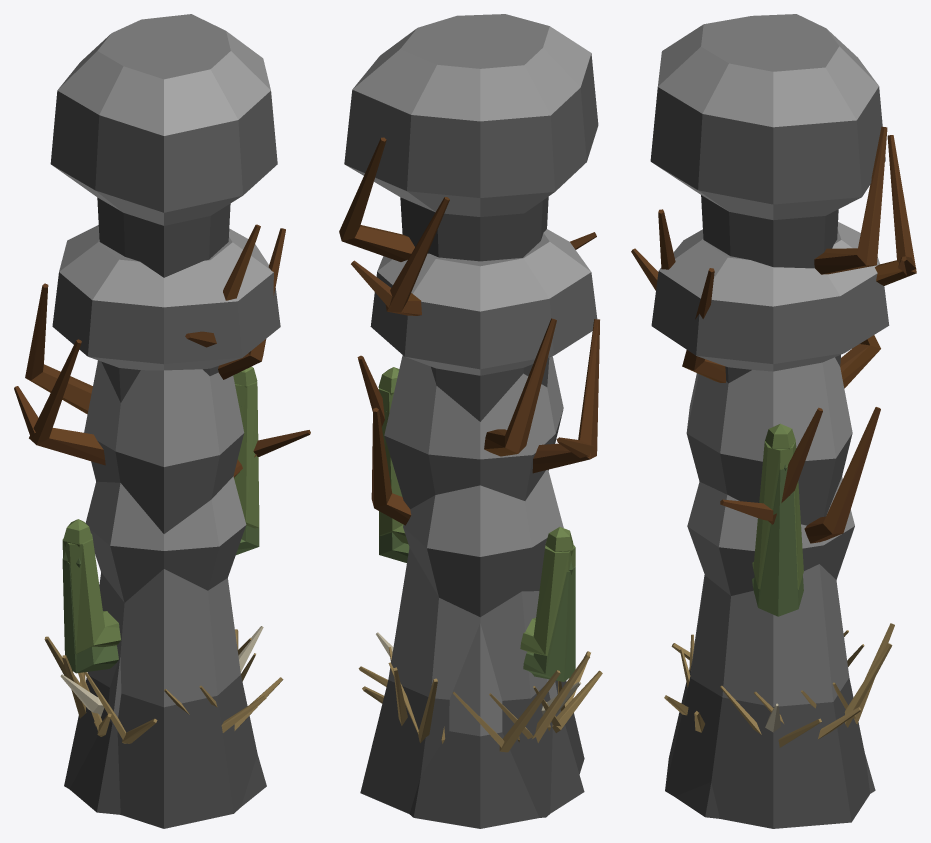
The model's file is badlands.glb.
3 views of the same model, side by side, from view 1: azimuth 30°, elevation 25°; view 2: azimuth 150°, elevation 25°; view 3: azimuth 270°, elevation 25° (orthographic).
Visible parts, largest first — view 1: badlands_sandstone_pillar_b, badlands_sandstone_pillar_a, badlands_cactus_b, badlands_dead_tree_b, badlands_dead_tree_a, badlands_cactus_a, badlands_dry_shrub_b, badlands_dry_shrub_a, badlands_bleached_skull_b; view 2: badlands_sandstone_pillar_b, badlands_sandstone_pillar_a, badlands_dead_tree_b, badlands_dead_tree_a, badlands_cactus_b, badlands_cactus_a, badlands_dry_shrub_a, badlands_dry_shrub_b; view 3: badlands_sandstone_pillar_b, badlands_sandstone_pillar_a, badlands_dead_tree_a, badlands_dead_tree_b, badlands_cactus_a, badlands_cactus_b, badlands_dry_shrub_a, badlands_dry_shrub_b.
Boxes of the visible parts, x1,y1,x2,y2 form: badlands_sandstone_pillar_b: [50, 14, 277, 828]; badlands_sandstone_pillar_a: [52, 225, 280, 814]; badlands_cactus_b: [62, 366, 259, 654]; badlands_dead_tree_b: [14, 228, 285, 465]; badlands_dead_tree_a: [25, 224, 310, 477]; badlands_cactus_a: [62, 405, 259, 673]; badlands_dry_shrub_b: [62, 638, 283, 743]; badlands_dry_shrub_a: [44, 629, 266, 736]; badlands_bleached_skull_b: [60, 626, 263, 714]; badlands_sandstone_pillar_b: [344, 14, 598, 817]; badlands_sandstone_pillar_a: [370, 229, 597, 828]; badlands_dead_tree_b: [351, 197, 599, 525]; badlands_dead_tree_a: [339, 137, 596, 456]; badlands_cactus_b: [378, 367, 575, 655]; badlands_cactus_a: [379, 410, 575, 681]; badlands_dry_shrub_a: [358, 647, 602, 752]; badlands_dry_shrub_b: [362, 651, 590, 743]; badlands_sandstone_pillar_b: [650, 14, 885, 828]; badlands_sandstone_pillar_a: [651, 222, 889, 818]; badlands_dead_tree_a: [631, 126, 887, 524]; badlands_dead_tree_b: [682, 135, 916, 543]; badlands_cactus_a: [752, 464, 803, 616]; badlands_cactus_b: [752, 423, 803, 589]; badlands_dry_shrub_a: [664, 634, 892, 747]; badlands_dry_shrub_b: [671, 623, 894, 739].
Bounding box in the file's own units: 0.8017 × 2.3 × 0.8031.
